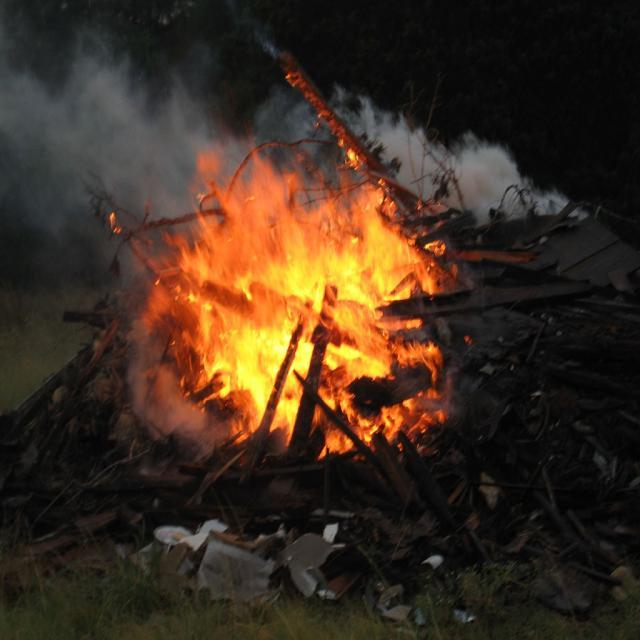Fire: (236, 242, 398, 298), (220, 328, 292, 394)
